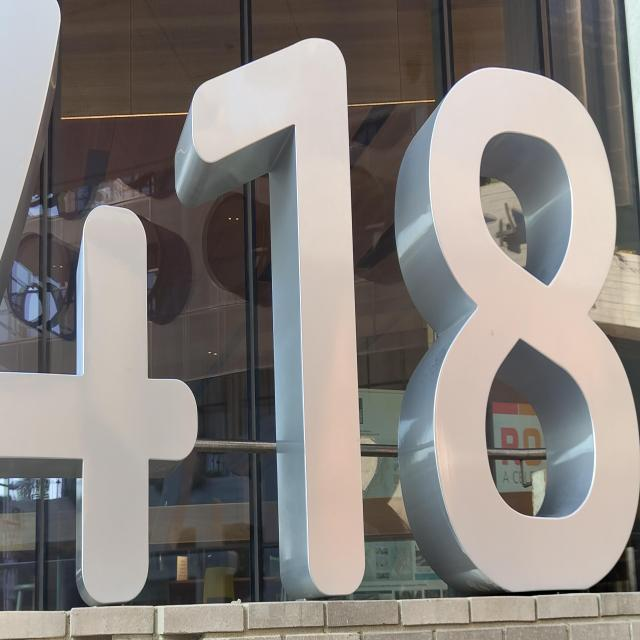character: (0, 0, 206, 614), (418, 60, 640, 601), (185, 34, 373, 602)
